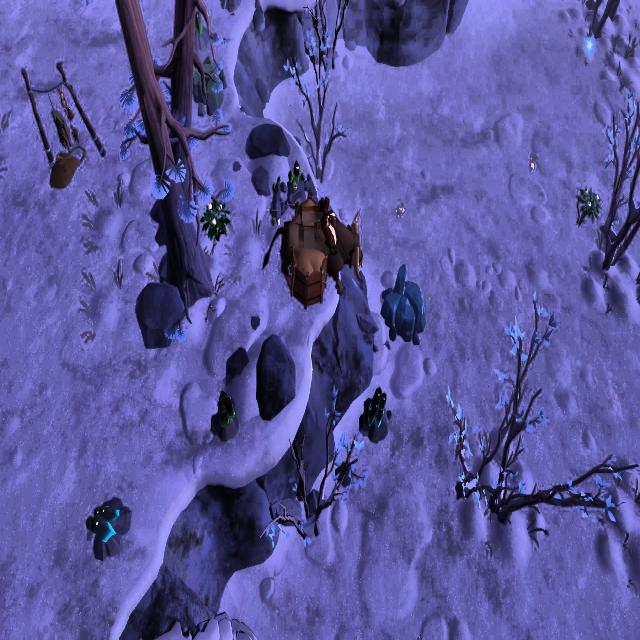fiber_t3: (199, 194, 231, 245), (572, 181, 600, 231)
ore_t3: (213, 390, 234, 434)
ore_t4: (86, 503, 121, 543), (364, 383, 386, 431)
rock_t3: (188, 48, 227, 119)
rock_t4: (380, 264, 430, 352)
